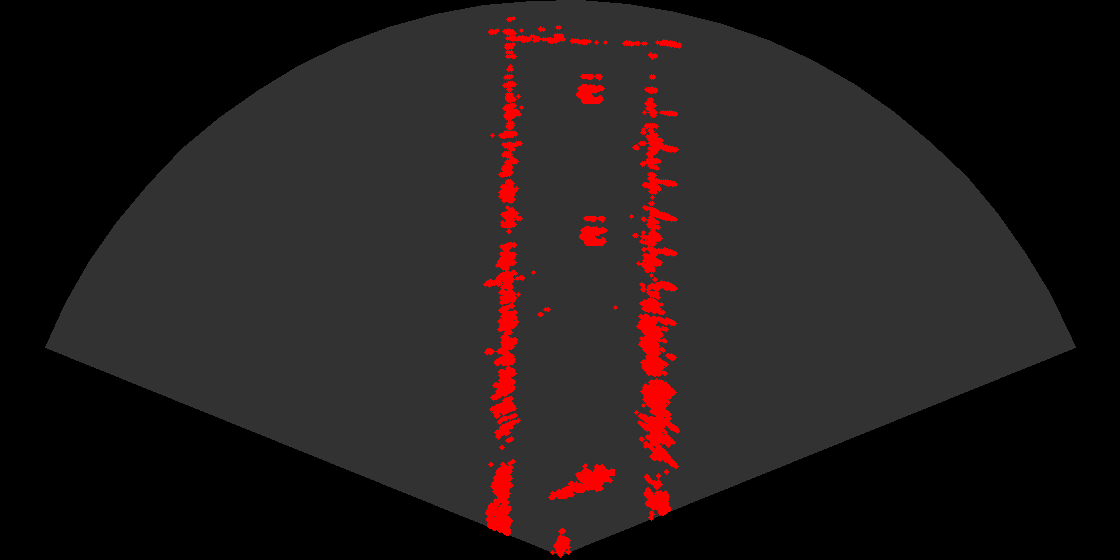ball: (556, 66, 616, 107), (559, 208, 619, 249)
frogman: (547, 457, 615, 504)
